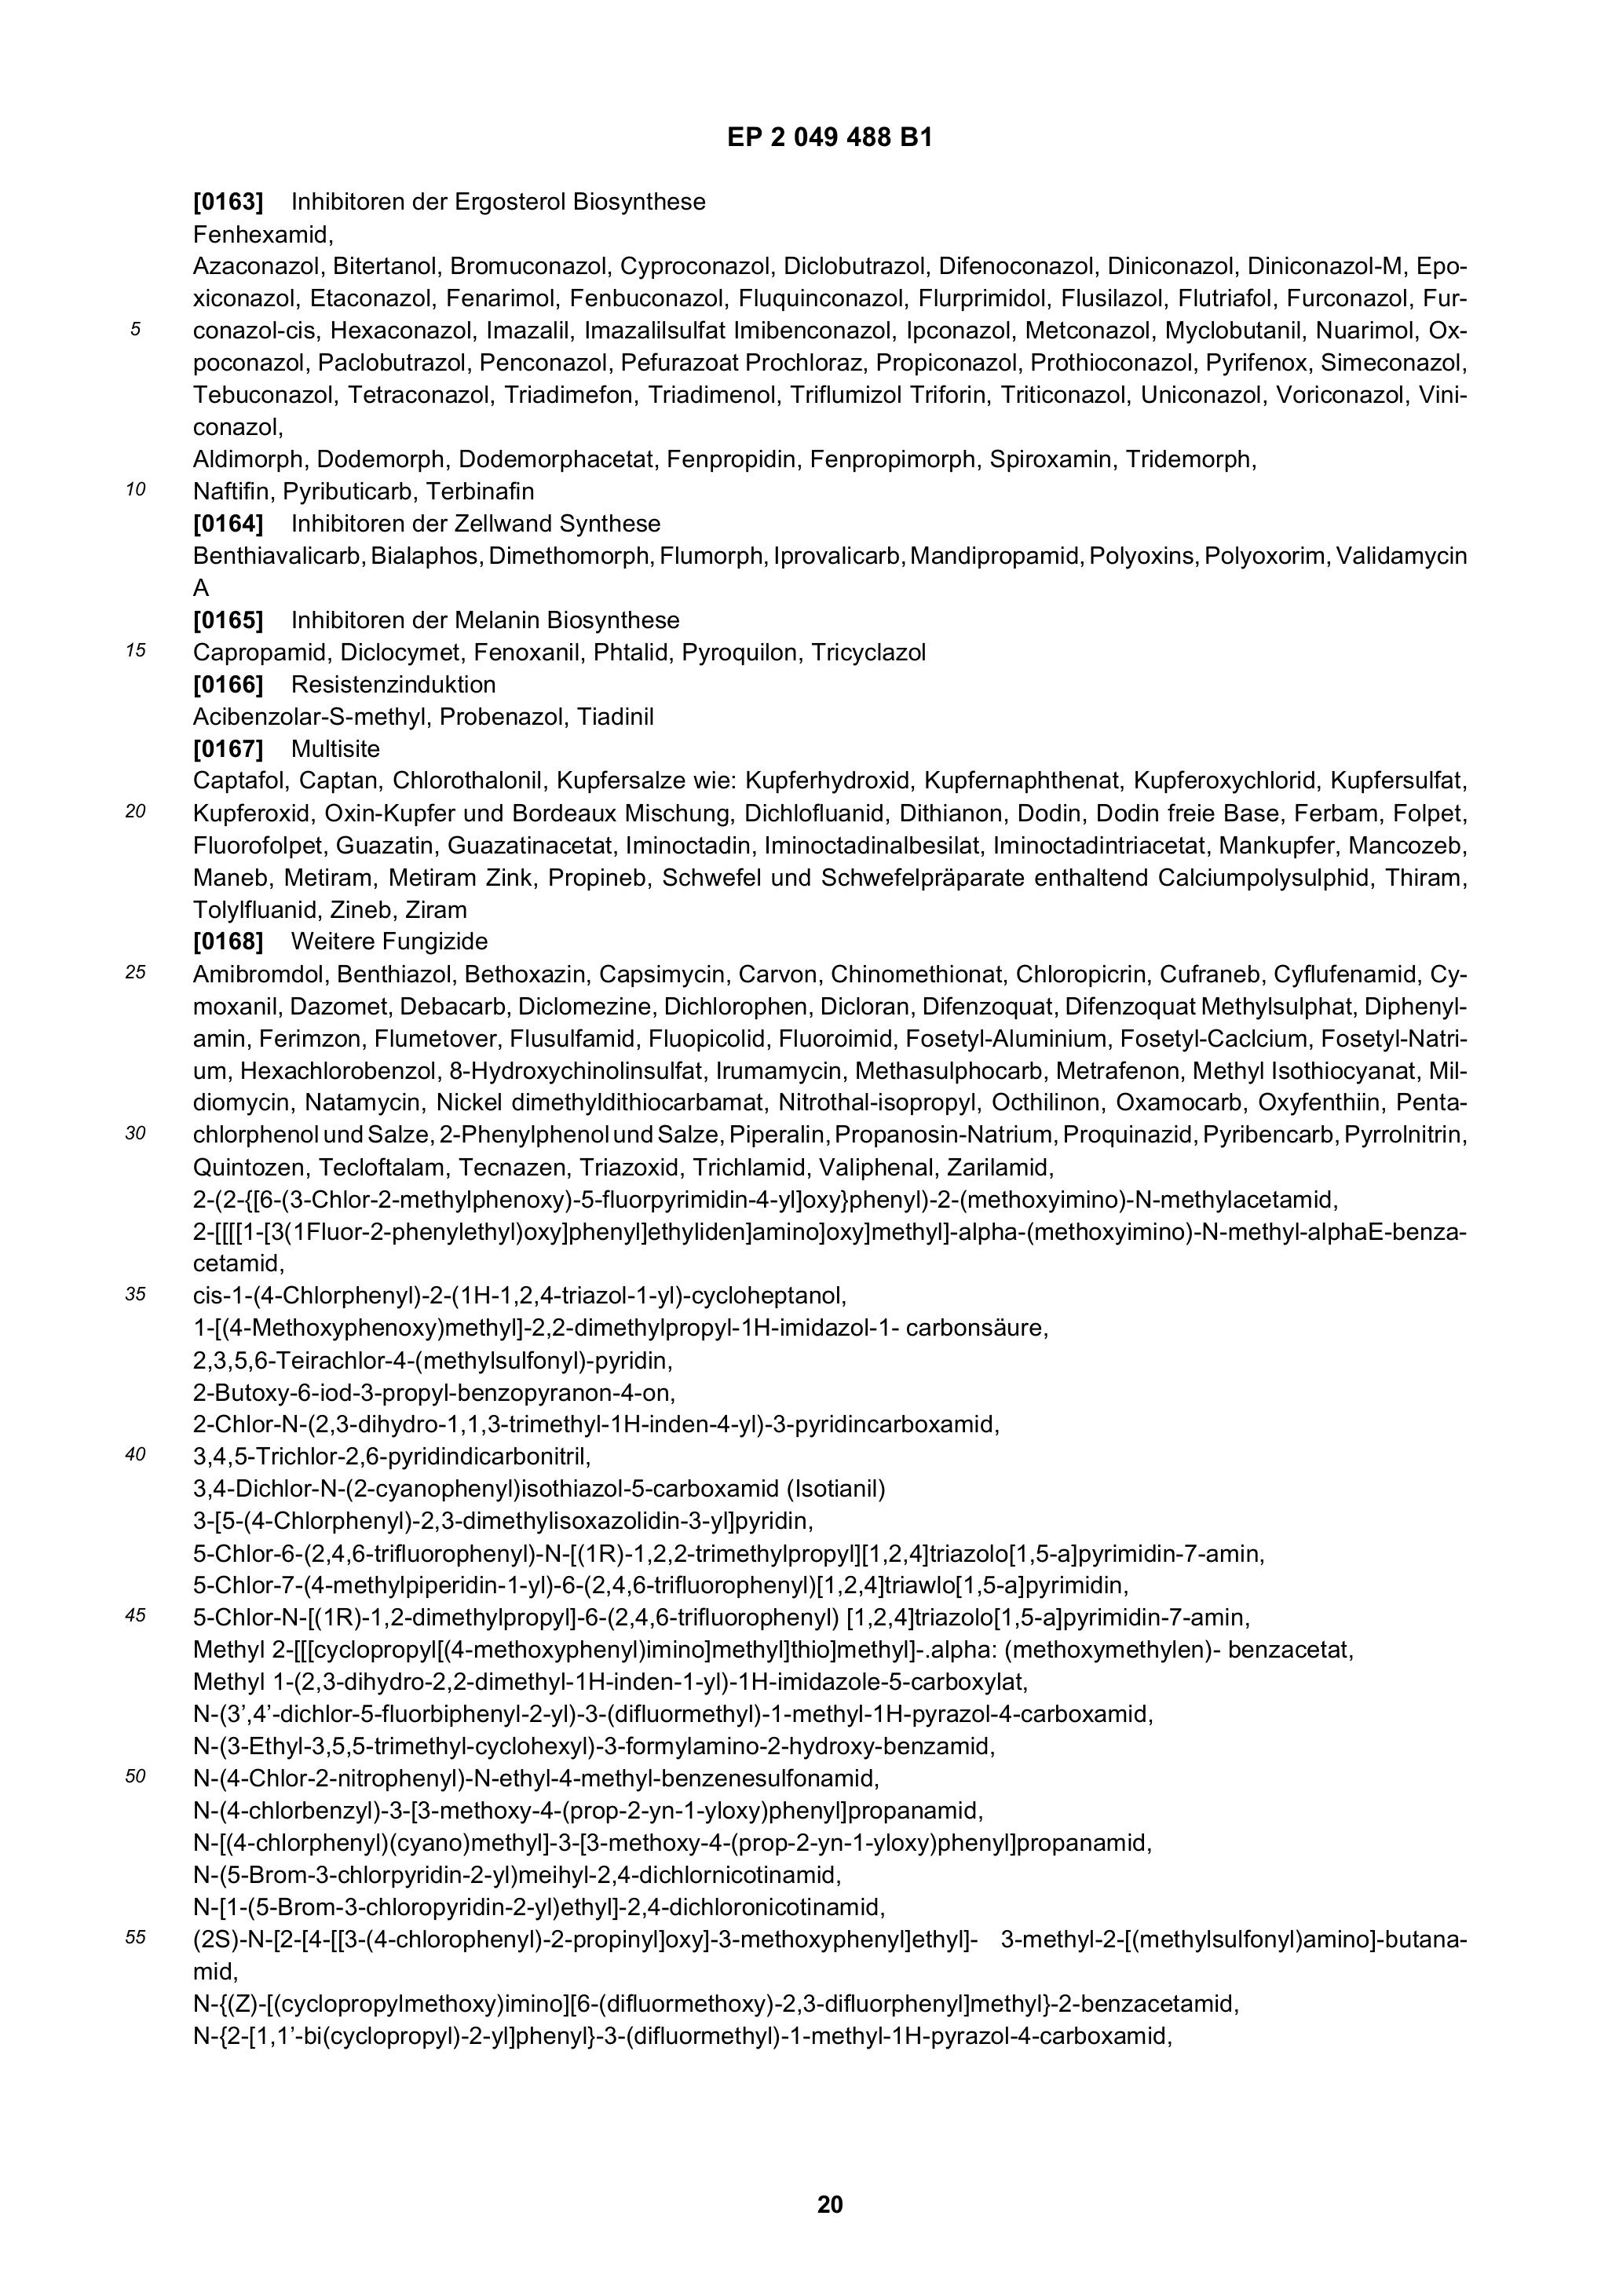substitutes: (163, 1275, 1453, 2112), (148, 1191, 1451, 1282)
